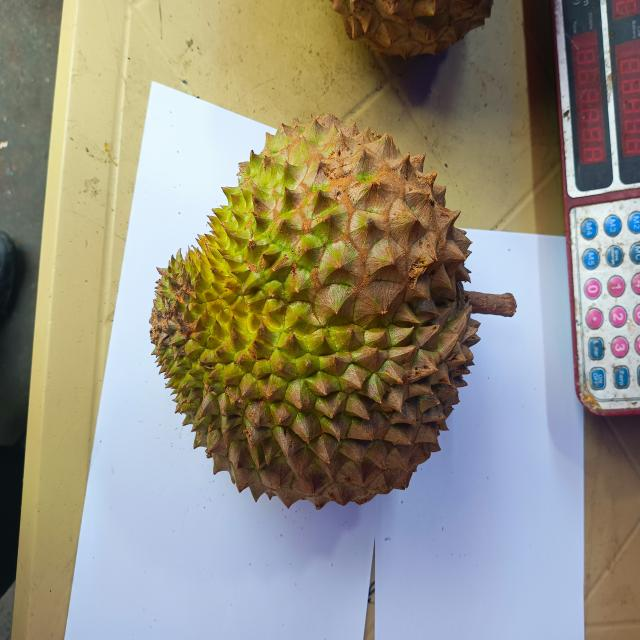defective: (143, 110, 478, 507)
mature: (150, 114, 516, 509)
